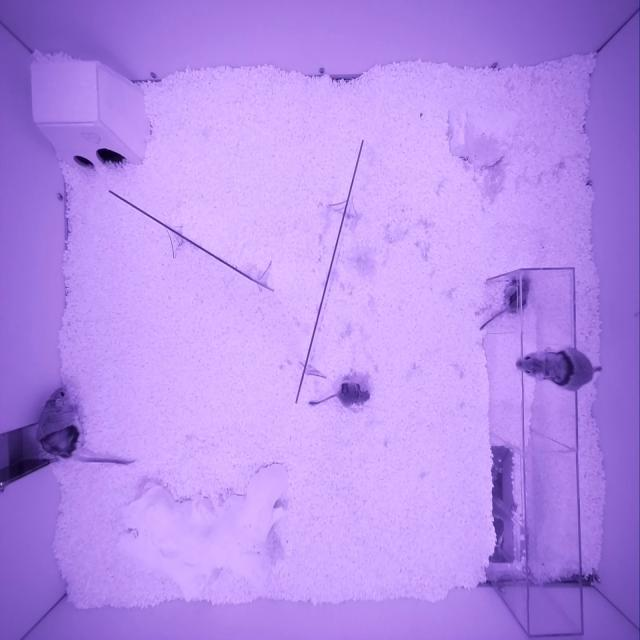adult_back: (36, 387, 84, 462)
adult_front: (515, 346, 594, 390)
pup_spotted: (336, 379, 370, 408)
pup_v_stripe: (503, 279, 530, 312)
